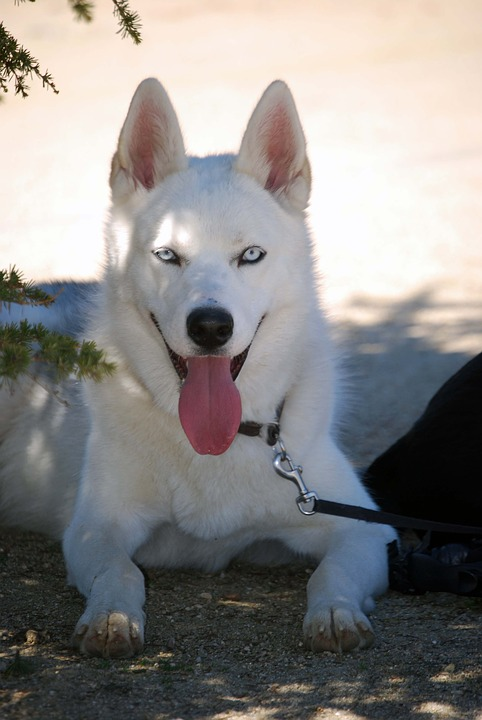husky: (61, 60, 355, 486)
